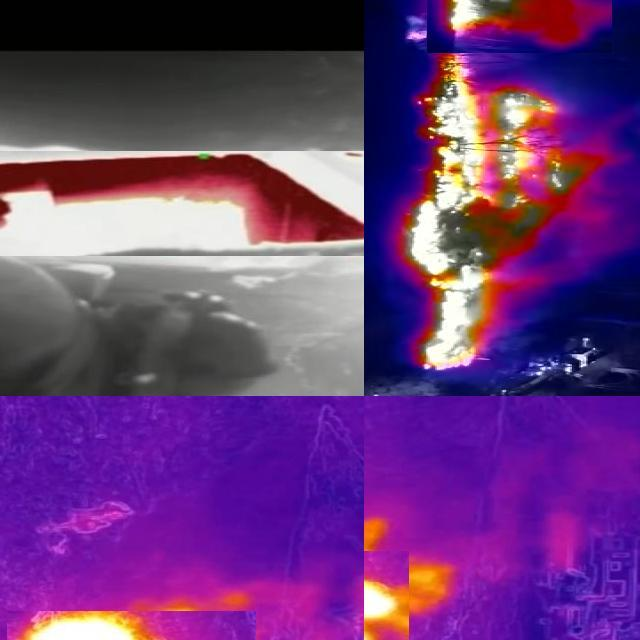fire: (400, 56, 614, 374), (1, 152, 365, 257), (427, 1, 612, 54), (7, 612, 256, 640)
